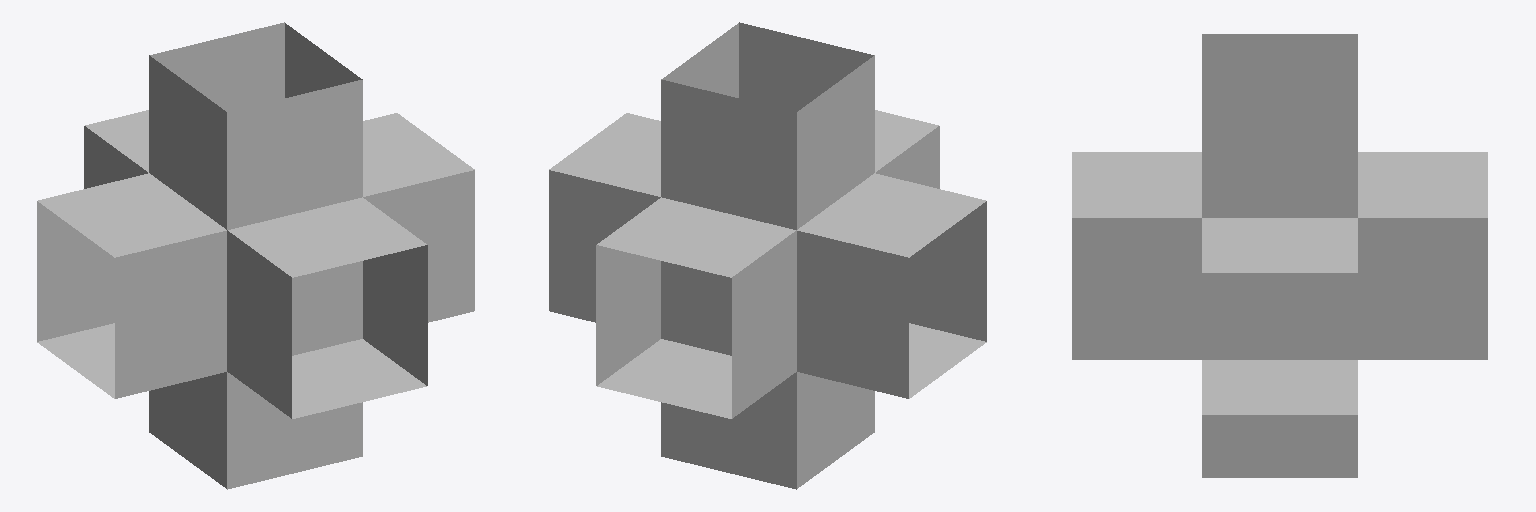
Rendered from cable.obj.
3 views of the same model, side by side, from view 1: azimuth 30°, elevation 25°; view 2: azimuth 150°, elevation 25°; view 3: azimuth 270°, elevation 25° (orthographic).
Visible parts, largest first — view 1: upNORMAL, westNORMAL, southNORMAL, downNORMAL, eastNORMAL, southNONE, northNORMAL; view 2: upNORMAL, westNORMAL, northNORMAL, downNORMAL, eastNORMAL, northNONE, southNORMAL; view 3: upNORMAL, northNORMAL, southNORMAL, eastNORMAL, eastNONE, downNORMAL.
Part boxes in pixels (left/top/right/bottom): upNORMAL: left=149, top=22, right=362, bottom=229; westNORMAL: left=37, top=173, right=226, bottom=398; southNORMAL: left=227, top=197, right=427, bottom=418; downNORMAL: left=149, top=372, right=362, bottom=489; eastNORMAL: left=363, top=113, right=474, bottom=322; southNONE: left=292, top=261, right=362, bottom=355; northNORMAL: left=84, top=110, right=148, bottom=188; upNORMAL: left=661, top=22, right=874, bottom=229; westNORMAL: left=797, top=173, right=986, bottom=398; northNORMAL: left=596, top=197, right=796, bottom=418; downNORMAL: left=661, top=372, right=874, bottom=489; eastNORMAL: left=549, top=113, right=660, bottom=322; northNONE: left=661, top=261, right=731, bottom=355; southNORMAL: left=875, top=110, right=939, bottom=188; upNORMAL: left=1202, top=34, right=1357, bottom=217; northNORMAL: left=1358, top=152, right=1487, bottom=359; southNORMAL: left=1072, top=152, right=1201, bottom=359; eastNORMAL: left=1202, top=218, right=1357, bottom=414; eastNONE: left=1202, top=273, right=1357, bottom=359; downNORMAL: left=1202, top=415, right=1357, bottom=477.
Bounding box in the file's own units: 1 × 1 × 1.